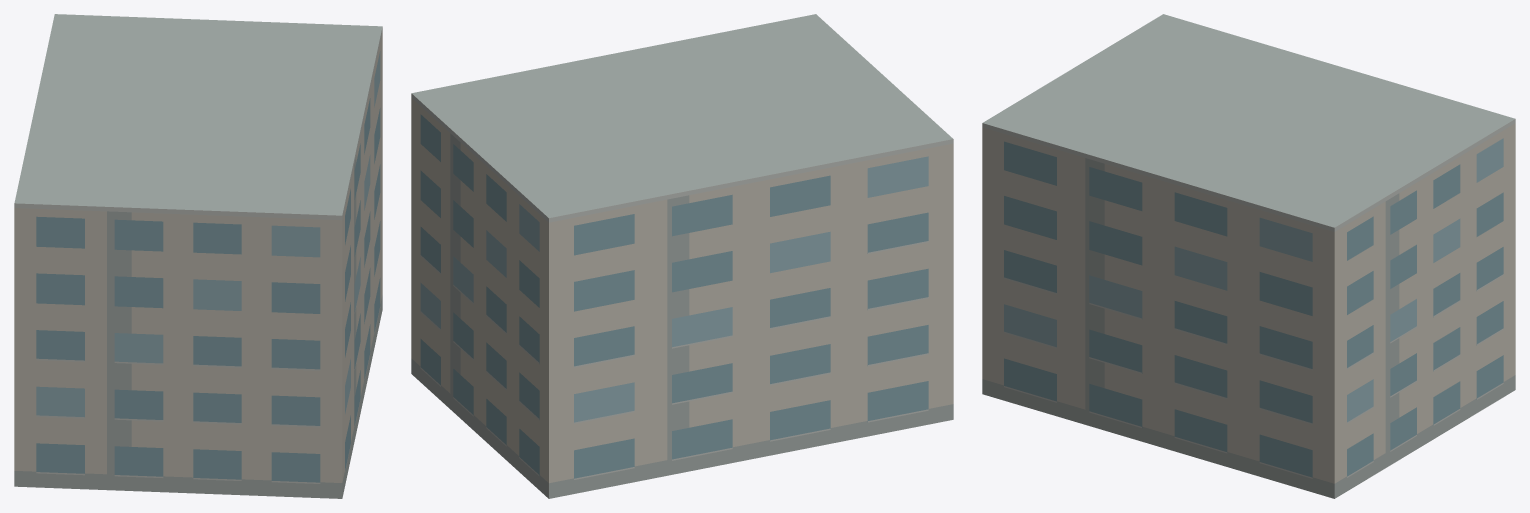
Rendered from survey-upis-32933757.glb.
3 views of the same model, side by side, from view 1: azimuth 30°, elevation 25°; view 2: azimuth 150°, elevation 25°; view 3: azimuth 270°, elevation 25° (orthographic). The views are drawn at different scales.
Parts seen in each view (by area): view 1: survey-upis-32933757.tmp; view 2: survey-upis-32933757.tmp; view 3: survey-upis-32933757.tmp.
Part boxes in pixels (<box>): survey-upis-32933757.tmp: <box>14,14,382,498</box>; survey-upis-32933757.tmp: <box>411,14,953,498</box>; survey-upis-32933757.tmp: <box>982,14,1515,498</box>.
Bounding box in the file's own units: 25.79 × 15.25 × 27.19.
